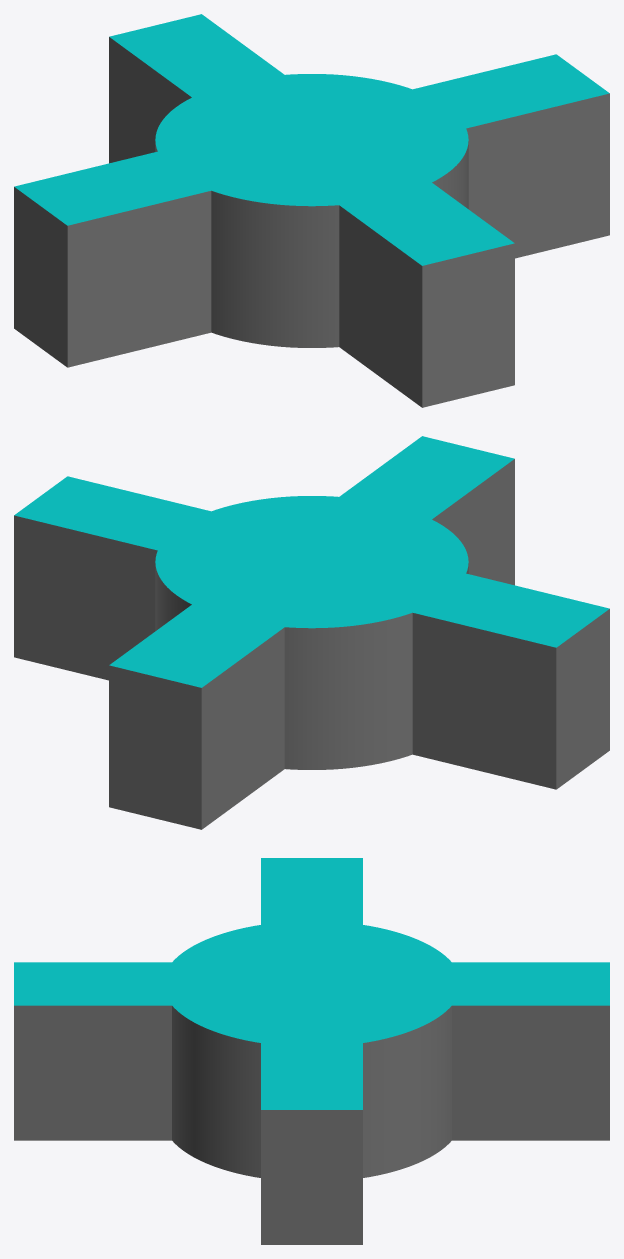
The model's file is fabricator_v0.gltf.
3 views of the same model, one above another, from view 1: azimuth 30°, elevation 25°; view 2: azimuth 150°, elevation 25°; view 3: azimuth 270°, elevation 25° (orthographic). The views are drawn at different scales.
Parts seen in each view (by area): view 1: root; view 2: root; view 3: root.
Boxes of the visible parts, x1,y1,x2,y2 form: root: [14, 14, 609, 407]; root: [14, 436, 609, 829]; root: [14, 858, 609, 1244].
Bounding box in the file's own units: 4 × 1 × 4.
